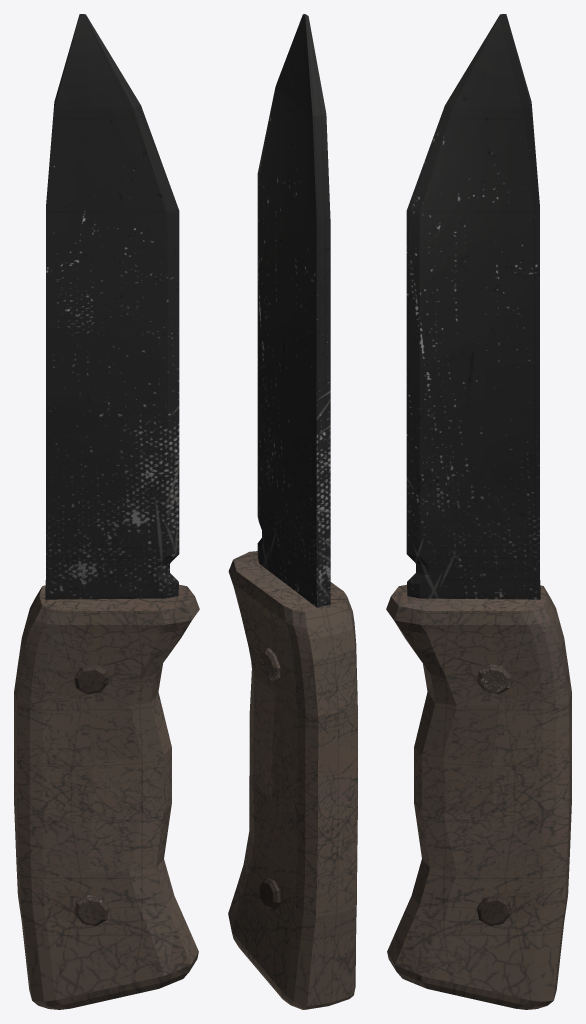
3 views of the same model, side by side, from view 1: azimuth 90°, elevation 25°; view 2: azimuth 210°, elevation 25°; view 3: azimuth 270°, elevation 25° (orthographic).
Parts seen in each view (by area): view 1: 단검; view 2: 단검; view 3: 단검.
Boxes of the visible parts, left/top/right/bottom form: 단검: left=14, top=14, right=199, bottom=1009; 단검: left=228, top=14, right=357, bottom=1009; 단검: left=386, top=14, right=571, bottom=1009.
Bounding box in the file's own units: 1.89 × 4.34 × 25.39.
